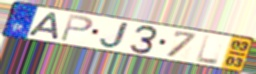3: (127, 24, 159, 55)
7: (164, 30, 198, 59)
A: (26, 11, 61, 41)
J: (97, 21, 131, 49)
L: (195, 34, 220, 66)
P: (58, 13, 95, 43)
